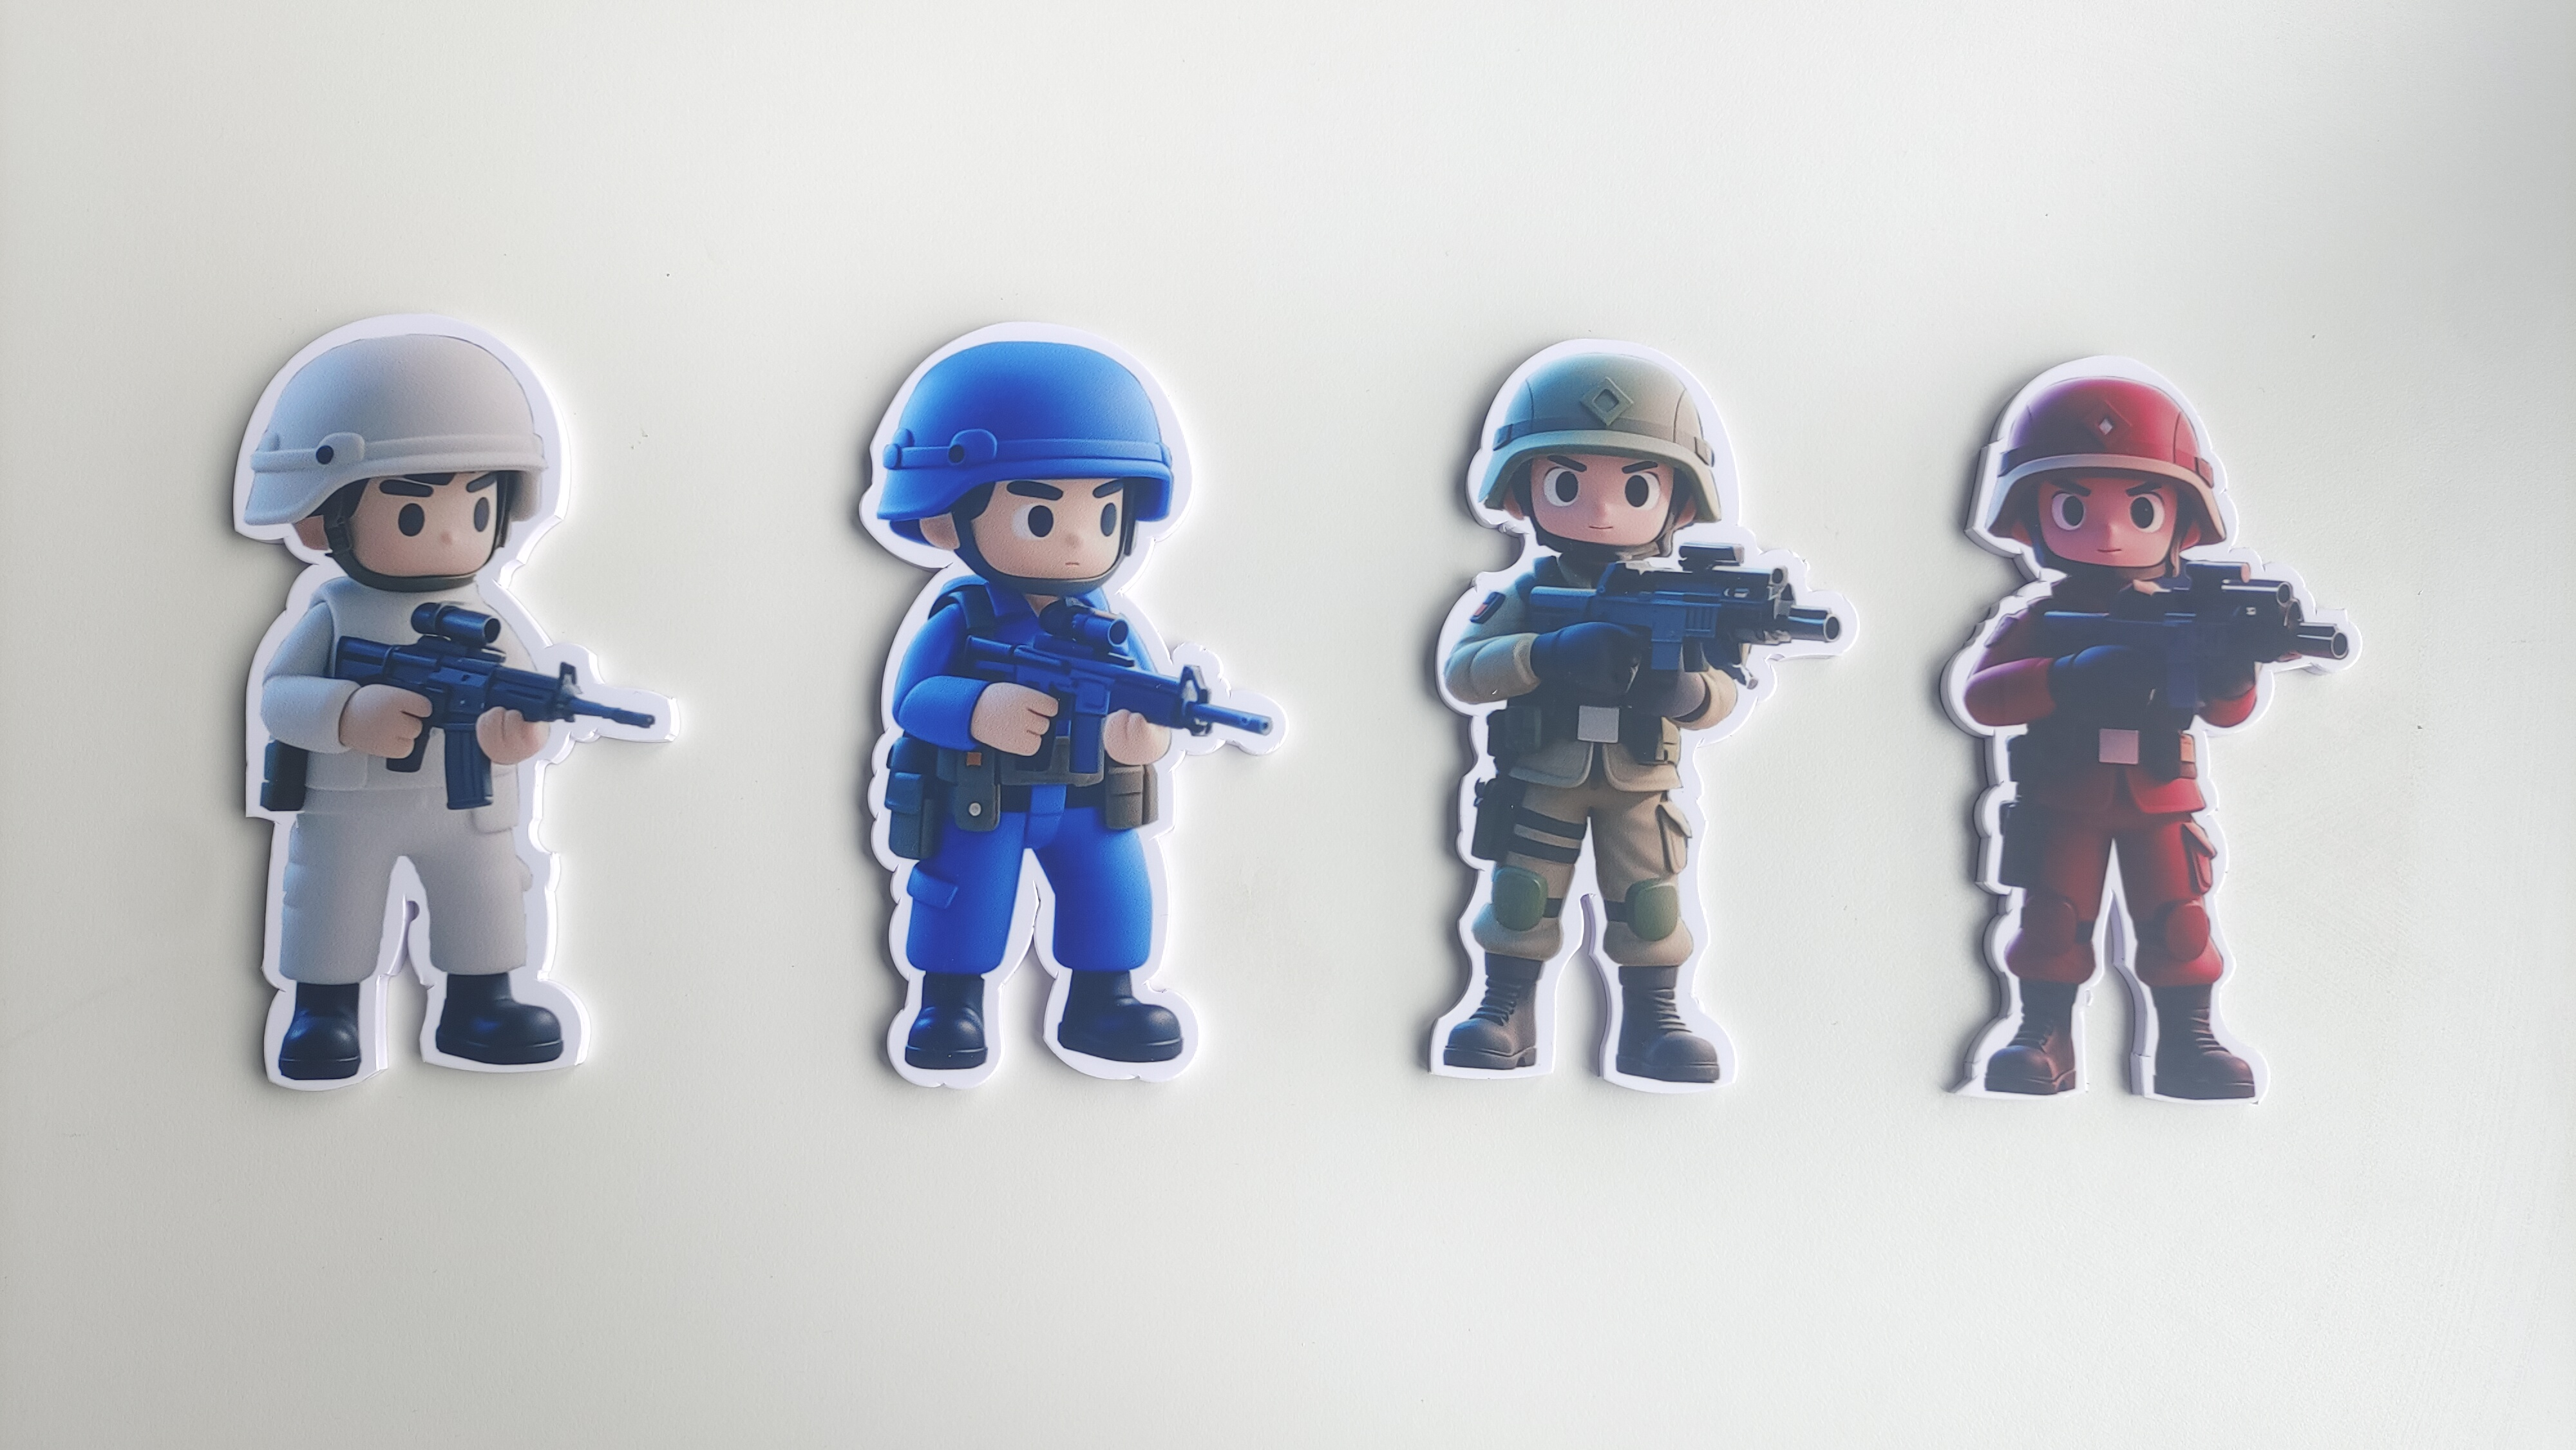enemy1: (1928, 573, 2289, 1110)
enemy2: (865, 582, 1210, 1080)
friend: (1422, 562, 1739, 1100)
hostage: (234, 582, 633, 1107)
